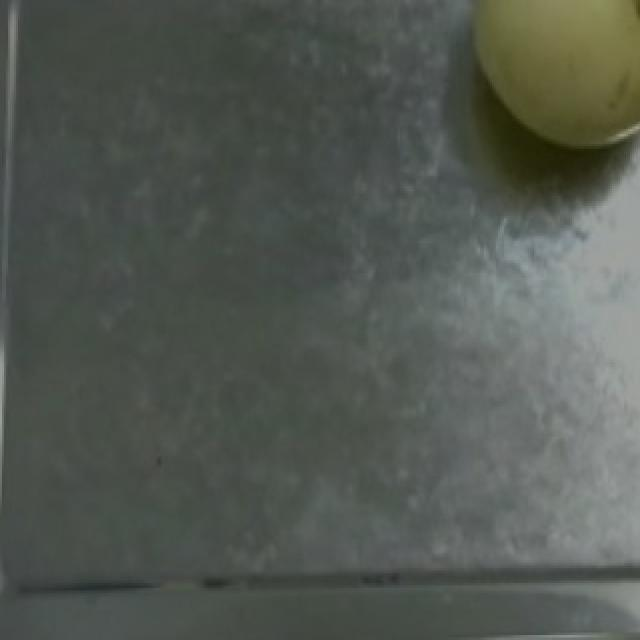Fruit: (430, 0, 640, 181)
